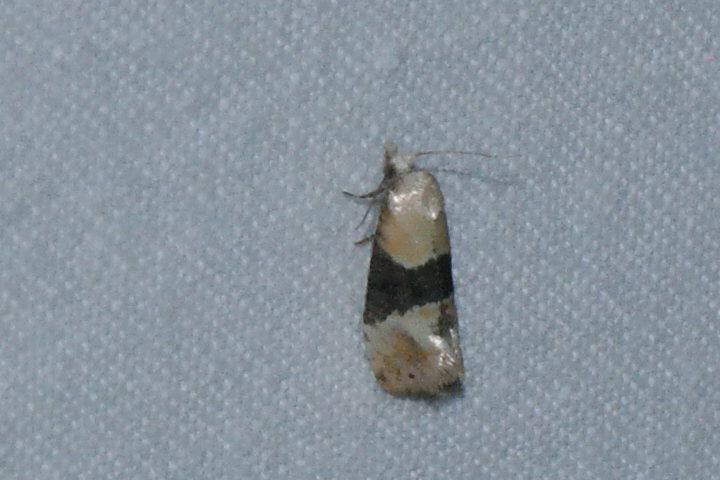Eupoecilia Ambiguella: (337, 134, 520, 401)
